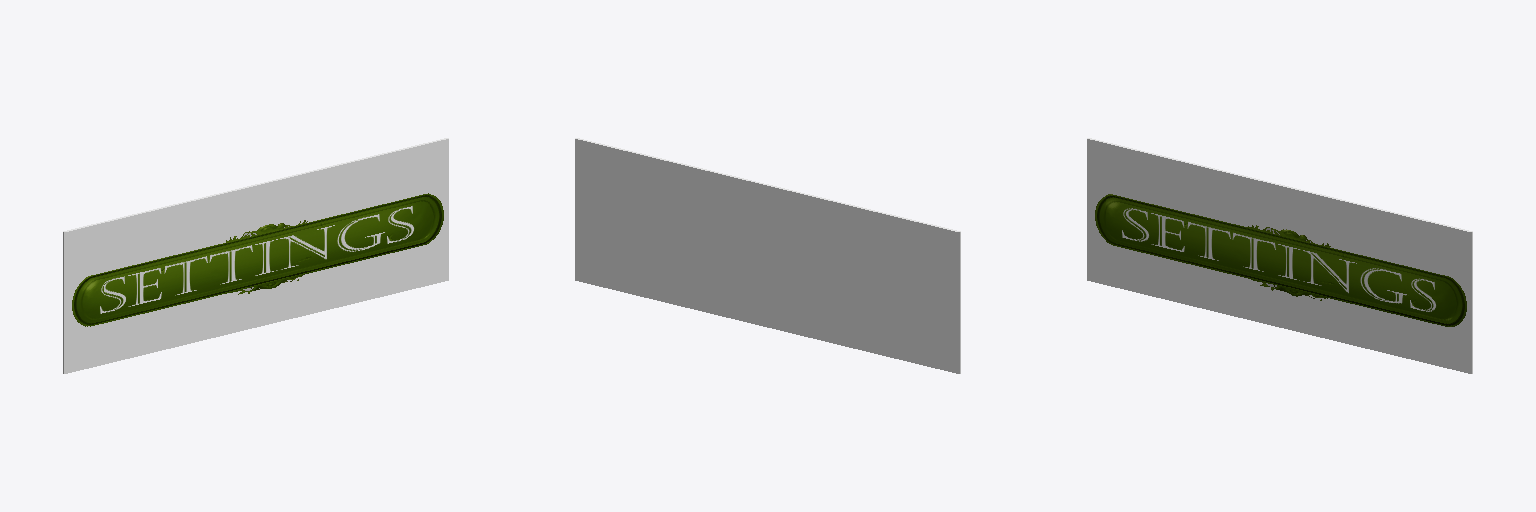
3 renders of one model, left to right at view 1: azimuth 30°, elevation 25°; view 2: azimuth 150°, elevation 25°; view 3: azimuth 330°, elevation 25°, orthographic.
Parts seen in each view (by area): view 1: play_button:pCube1 play_button:polySurface1; view 2: play_button:pCube1 play_button:polySurface1; view 3: play_button:pCube1 play_button:polySurface1.
Boxes of the visible parts, <box> form: play_button:pCube1 play_button:polySurface1: <box>63,138,448,373</box>; play_button:pCube1 play_button:polySurface1: <box>575,138,960,373</box>; play_button:pCube1 play_button:polySurface1: <box>1087,138,1472,373</box>.
Bounding box in the file's own units: 1.53 × 0.5405 × 0.0099.
Materials: 4 (1 with a texture image).